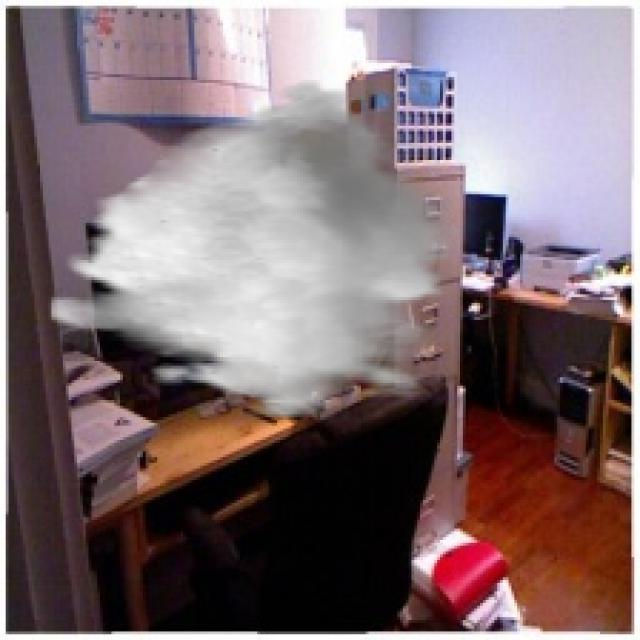Smoke: (48, 74, 460, 417)
